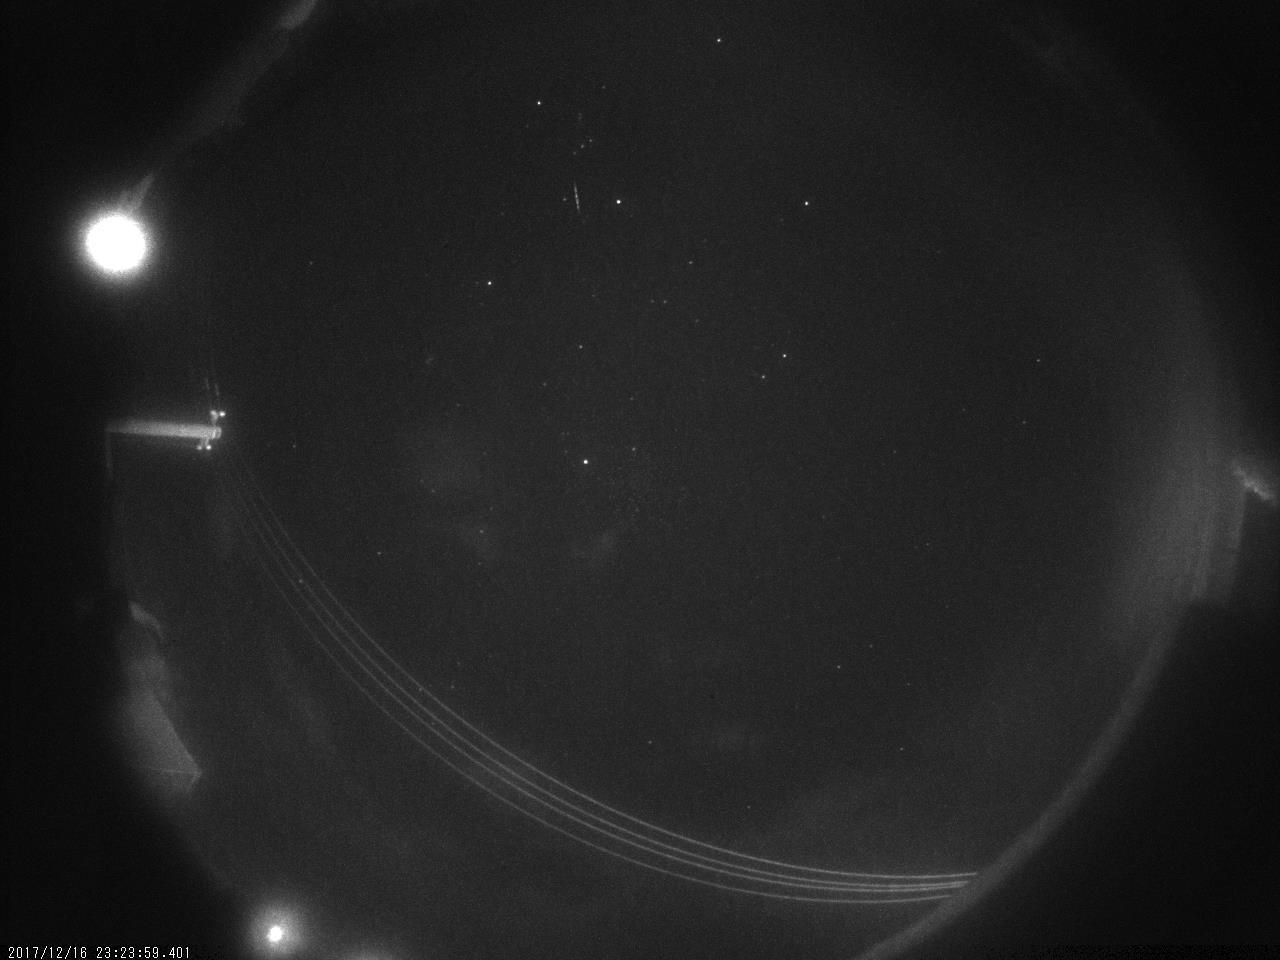Meteor: (566, 174, 588, 225)
